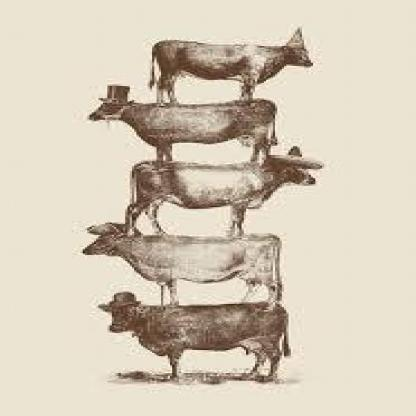cow: (80, 233, 286, 310), (125, 158, 322, 238), (102, 299, 290, 381), (88, 91, 278, 168), (153, 37, 314, 103)
